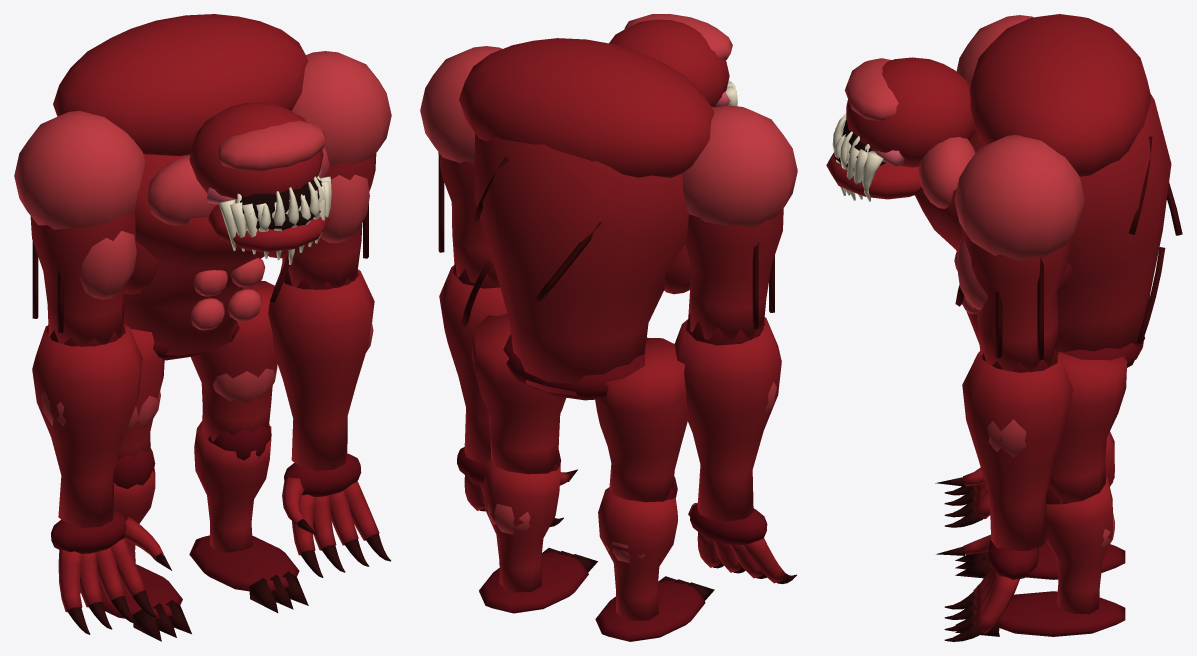
File: zumbi_sangue_forte.glb
The picture shows the model from 3 angles, left to right: view 1: azimuth 30°, elevation 25°; view 2: azimuth 150°, elevation 25°; view 3: azimuth 270°, elevation 25°; orthographic projection.
Visible parts, largest first — view 1: P_chest, P_shR, P_elR, P_elL, P_shL, P_neck, P_kneeL, P_handR, P_hipL, P_handL, P_kneeR, P_jaw (+1 smaller); view 2: P_chest, P_shR, P_elR, P_kneeR, P_hipR, P_kneeL, P_shL, P_hipL, P_neck, P_elL, P_handR, P_handL; view 3: P_chest, P_shL, P_elL, P_neck, P_kneeL, P_hipL, P_handL, P_jaw, P_kneeR, P_handR, P_shR.
Boxes of the visible parts, x1,y1,x2,y2 form: P_chest: (53,14,329,360); P_shR: (14,111,145,346); P_elR: (32,320,142,527); P_elL: (268,264,374,470); P_shL: (282,51,391,289); P_neck: (189,102,331,264); P_kneeL: (189,421,308,612); P_handR: (51,510,171,634); P_hipL: (191,280,277,441); P_handL: (282,453,390,577); P_kneeR: (80,446,191,641); P_jaw: (207,176,329,252); P_chest: (459,38,714,400); P_shR: (682,105,797,342); P_elR: (674,314,781,521); P_kneeR: (595,477,714,641); P_hipR: (595,337,688,502); P_kneeL: (479,450,597,613); P_shL: (420,46,502,283); P_hipL: (471,313,566,474); P_neck: (609,14,737,107); P_elL: (439,261,507,463); P_handR: (688,502,796,584); P_handL: (457,447,577,527); P_chest: (914,14,1182,367); P_shL: (954,135,1084,372); P_elL: (962,348,1073,550); P_neck: (840,57,975,201); P_kneeL: (955,477,1125,636); P_hipL: (1048,351,1127,504); P_handL: (936,534,1038,641); P_jaw: (826,113,921,199); P_kneeR: (955,431,1125,579); P_handR: (935,467,990,527); P_shR: (956,15,1033,85).
Bounding box in the file's own units: 1.36 × 2.02 × 1.16.
